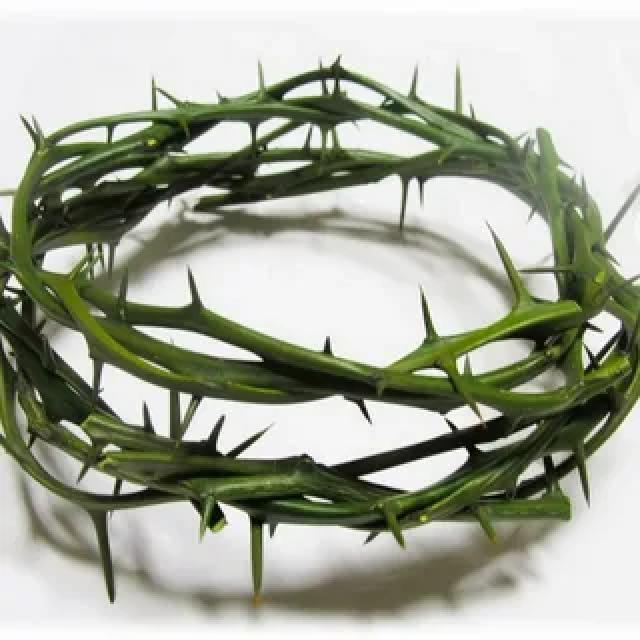crown: (0, 53, 640, 551)
